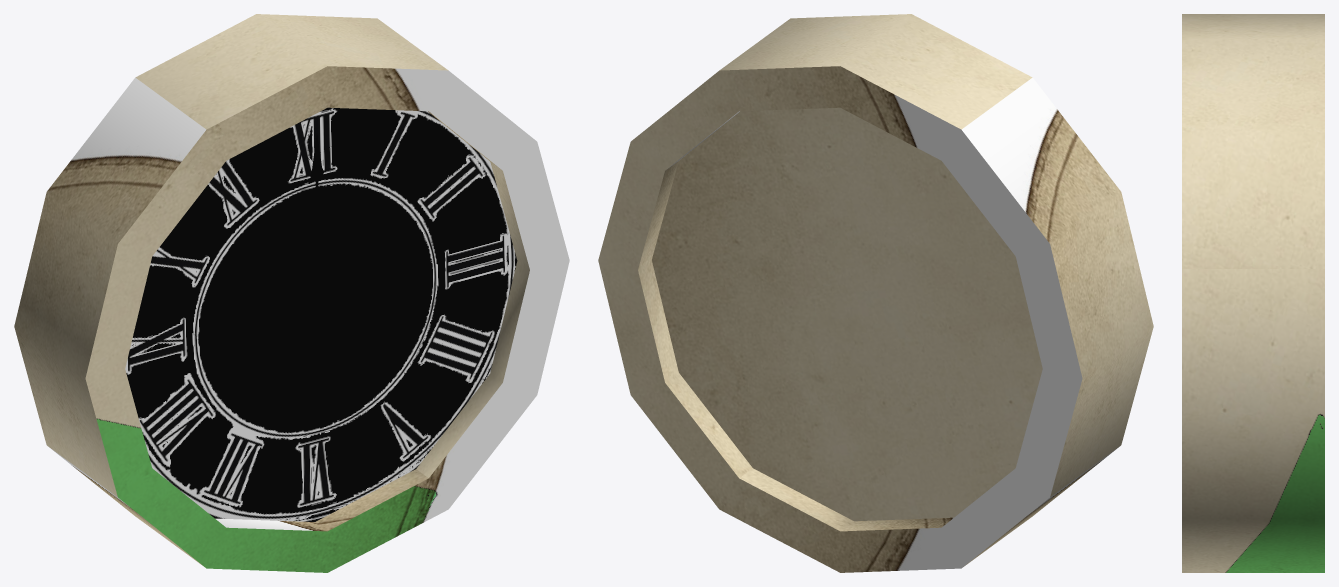
File: CLOCK.fbx
3 views of the same model, side by side, from view 1: azimuth 30°, elevation 25°; view 2: azimuth 150°, elevation 25°; view 3: azimuth 270°, elevation 25° (orthographic).
Parts seen in each view (by area): view 1: Cylinder.001, Cylinder.003, Circle; view 2: Cylinder.002, Cylinder.003; view 3: Cylinder.003.
Boxes of the visible parts, left/top/right/bottom form: Cylinder.001: left=125, top=107, right=517, bottom=521; Cylinder.003: left=14, top=14, right=569, bottom=572; Circle: left=310, top=133, right=323, bottom=324; Cylinder.002: left=652, top=107, right=1042, bottom=521; Cylinder.003: left=598, top=14, right=1153, bottom=572; Cylinder.003: left=1182, top=14, right=1324, bottom=572.
Size of the model in its own units: 239 by 239 by 60.95.
